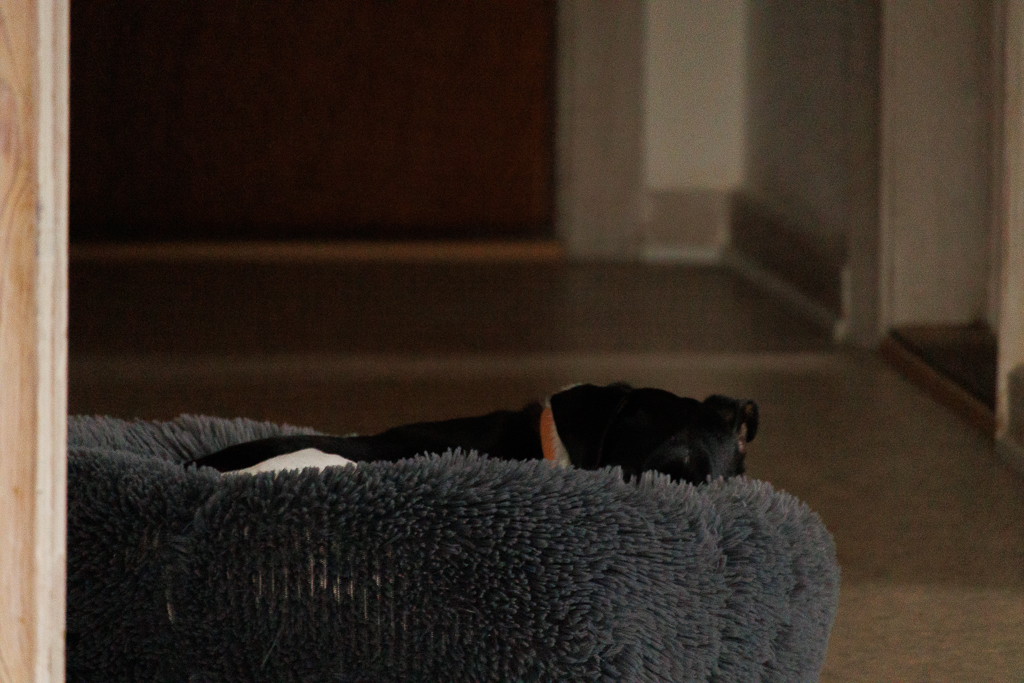Dog: (161, 369, 774, 517)
